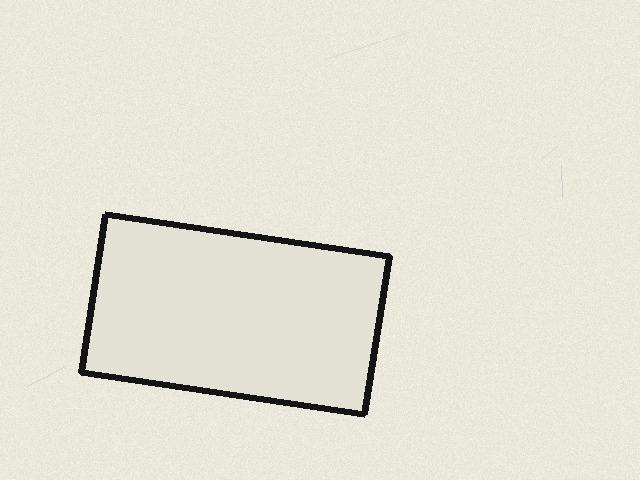parking_area: (81, 214, 389, 414)
